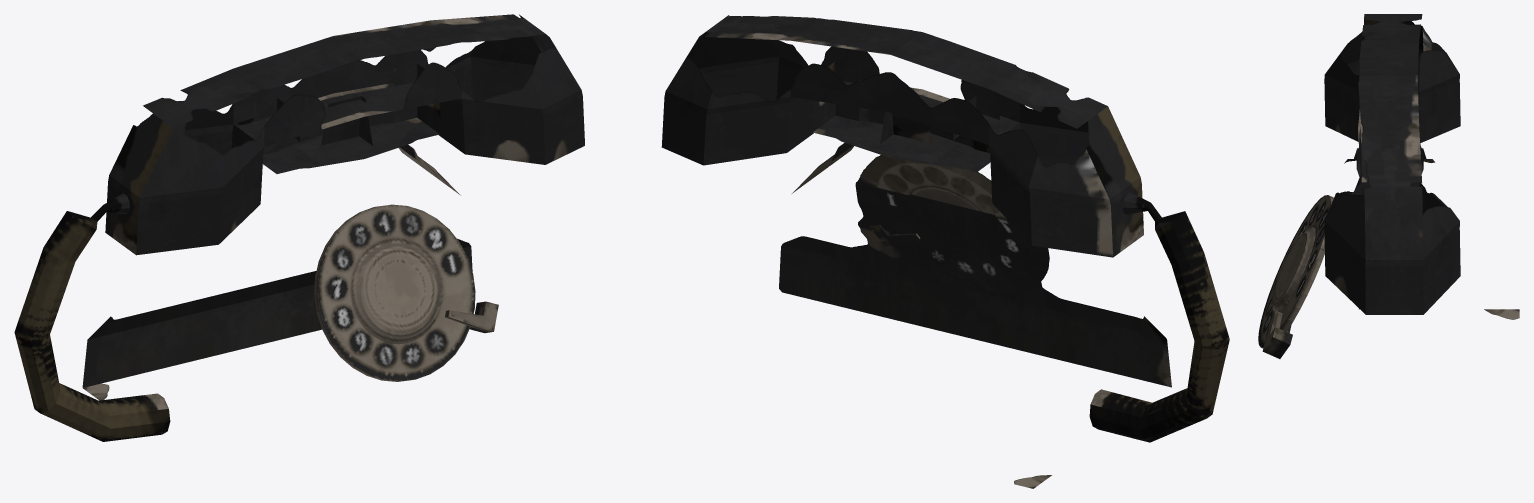
File: TELEPHONE.fbx
The picture shows the model from 3 angles, left to right: view 1: azimuth 30°, elevation 25°; view 2: azimuth 150°, elevation 25°; view 3: azimuth 270°, elevation 25°; orthographic projection. The views are drawn at different scales.
Visible parts, largest first — view 1: TELEPHONE; view 2: TELEPHONE; view 3: TELEPHONE.
Part boxes in pixels (x1=…): TELEPHONE: x1=14, y1=14, x2=584, y2=441; TELEPHONE: x1=661, y1=15, x2=1229, y2=488; TELEPHONE: x1=1258, y1=14, x2=1519, y2=358.
Bounding box in the file's own units: 259 × 155 × 114.
